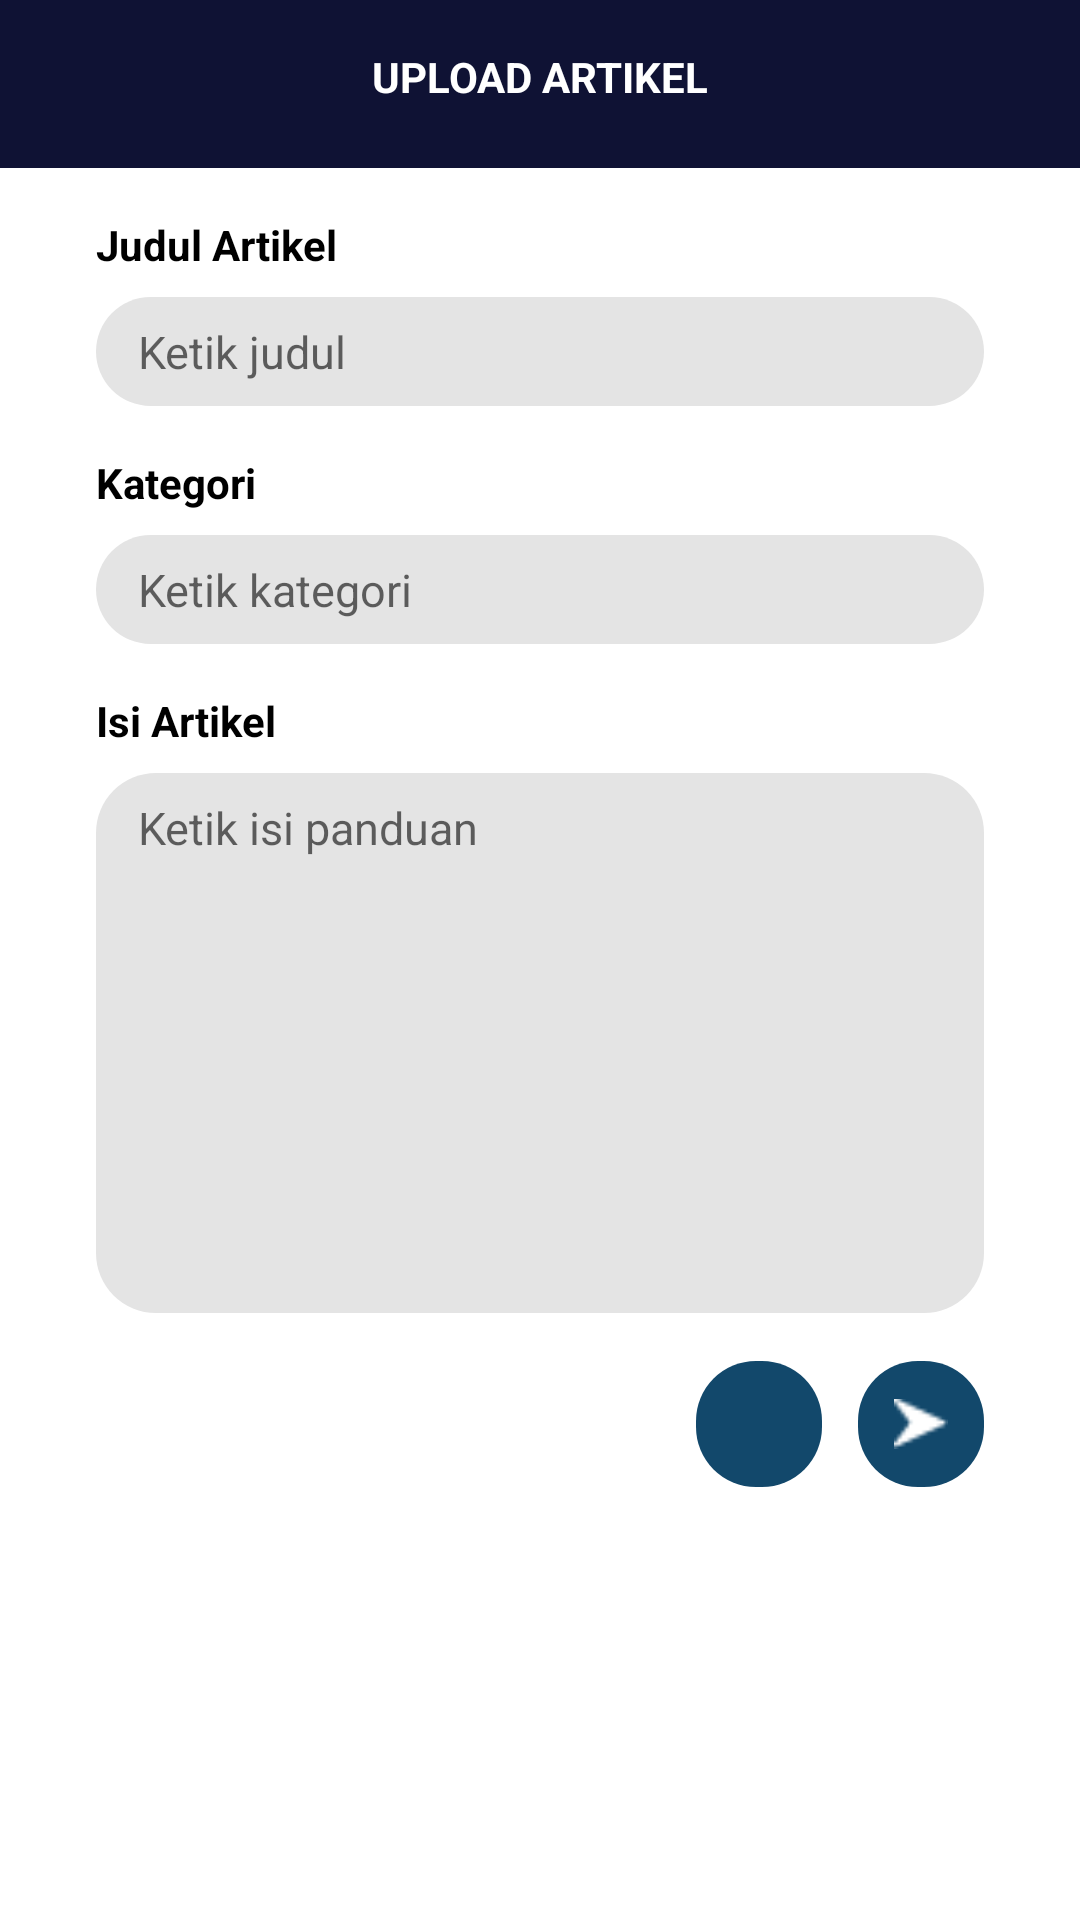

Locate icon controls on the screen. Image size 1080px x 1920px, boxes as (x1, y1, x2, y2).
right arrow: (858, 1361, 984, 1487)
